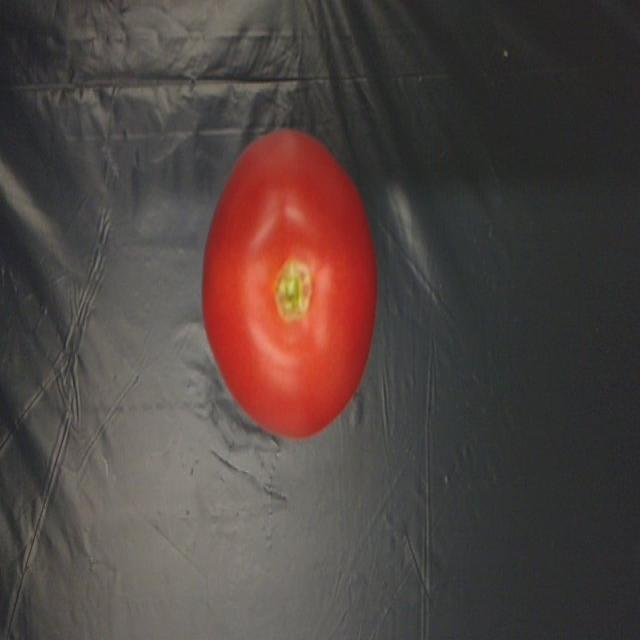kirmizi: (198, 112, 388, 436)
